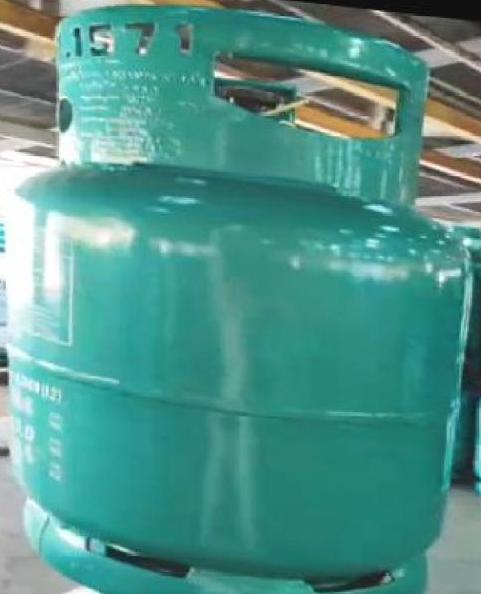cylinder: (1, 1, 481, 594)
